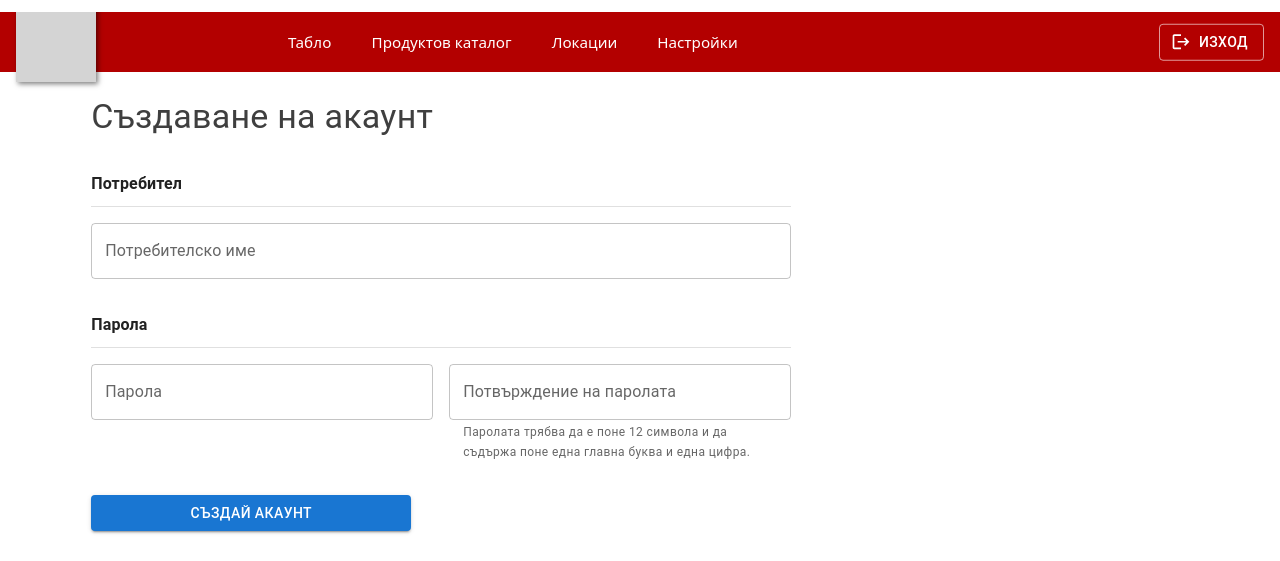
Create account page › blocks submission and reports validation errors when the fields are empty
Step 1. Click the button "Създай акаунт" → (251,513), box [91, 495, 411, 531]
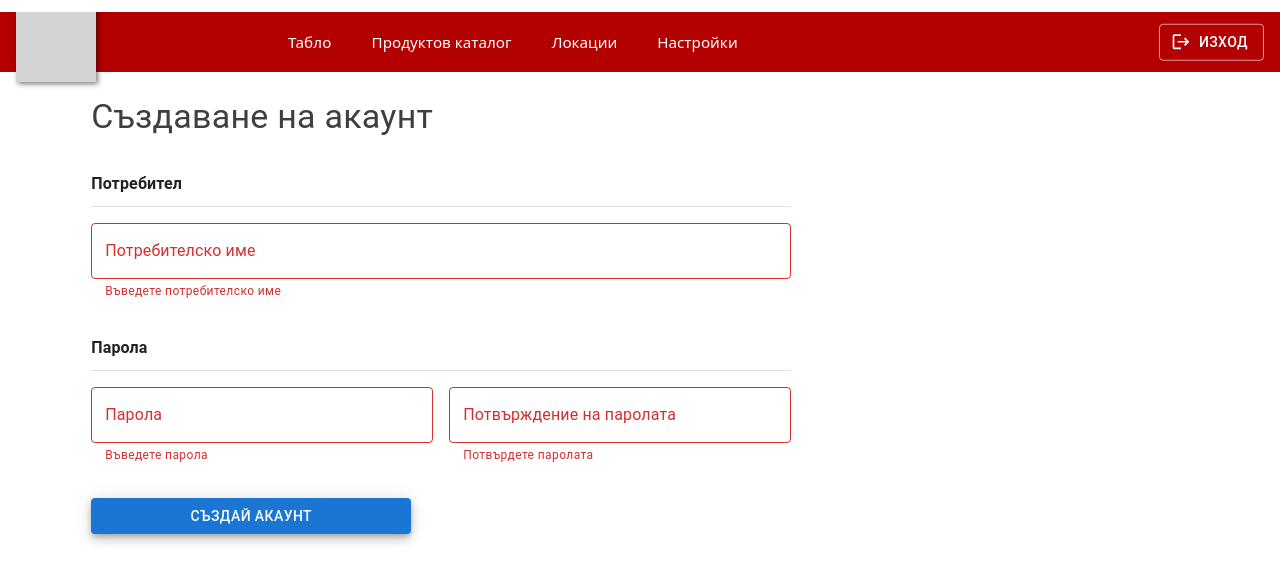
Now the text "Въведете потребителско име" is shown, box [105, 284, 281, 298]
Now the text "Въведете парола" is shown, box [105, 448, 208, 462]
Now the text "Потвърдете паролата" is shown, box [463, 448, 594, 462]
